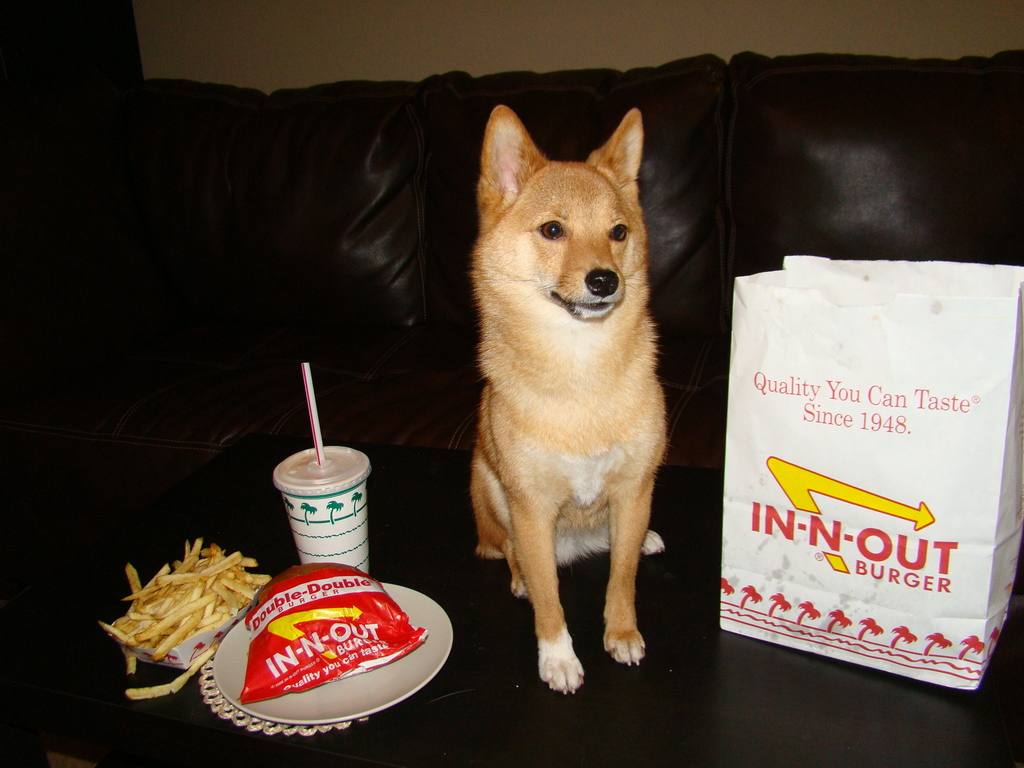French fries: (96, 548, 260, 684)
